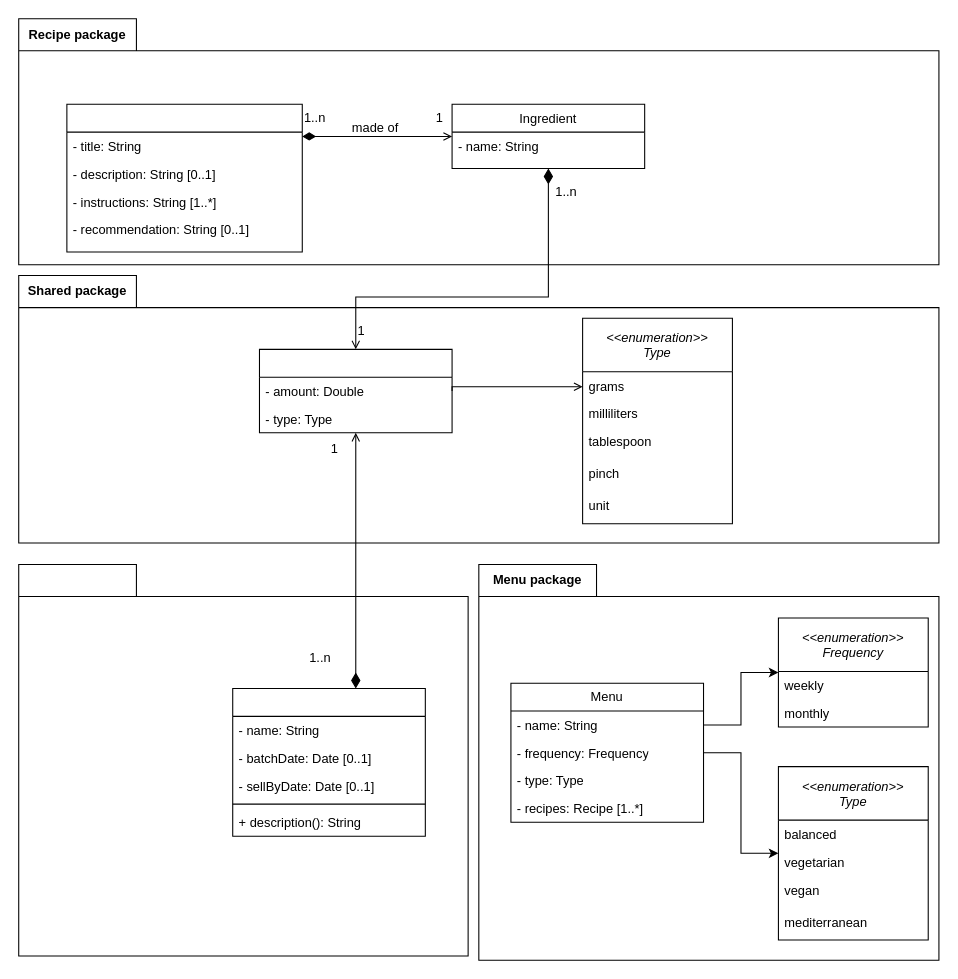
Some shapes in this 958 by 979 pixel diagram are drawn without their labels. The box of each missing label's shape, as (x1, y1, x2, y2) in pixels:
Food: (232, 687, 425, 836)
Food package: (18, 563, 468, 956)
Quantity: (258, 348, 452, 433)
Recipe: (66, 103, 302, 252)
